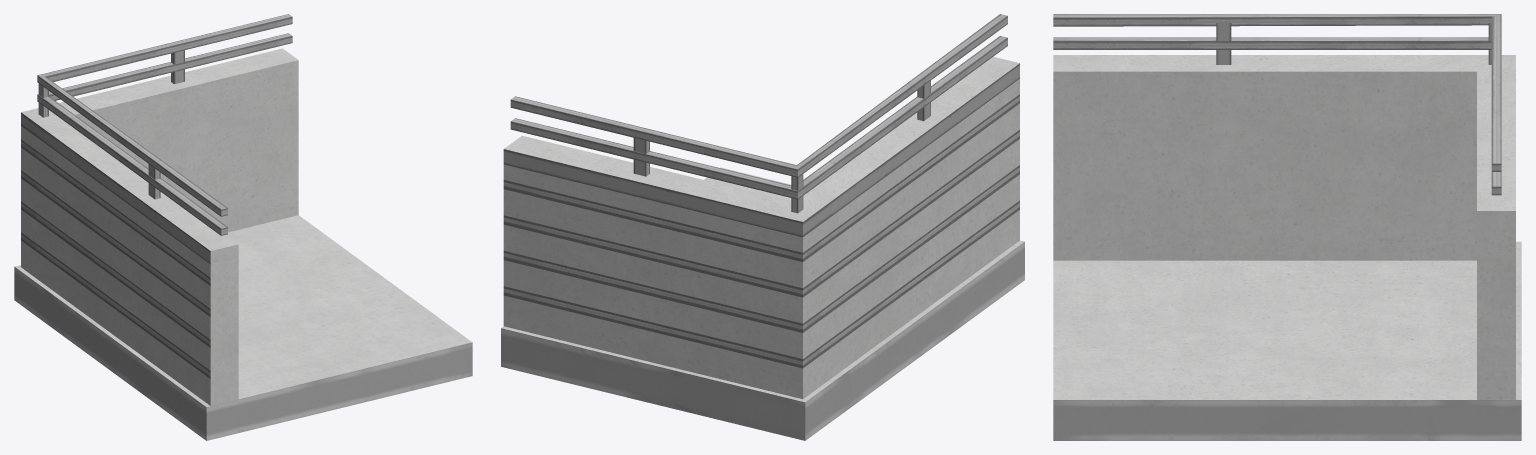
Rendered from MB_Balcony_Angle.fbx.
3 views of the same model, side by side, from view 1: azimuth 30°, elevation 25°; view 2: azimuth 150°, elevation 25°; view 3: azimuth 270°, elevation 25° (orthographic). The views are drawn at different scales.
Visible parts, largest first — view 1: MB_Balcony_Angle; view 2: MB_Balcony_Angle; view 3: MB_Balcony_Angle.
Part boxes in pixels (x1,y1,x2,y2): MB_Balcony_Angle: (14,14,472,440); MB_Balcony_Angle: (501,14,1024,440); MB_Balcony_Angle: (1053,14,1521,440).
Bounding box in the file's own units: 162 × 132 × 202.
